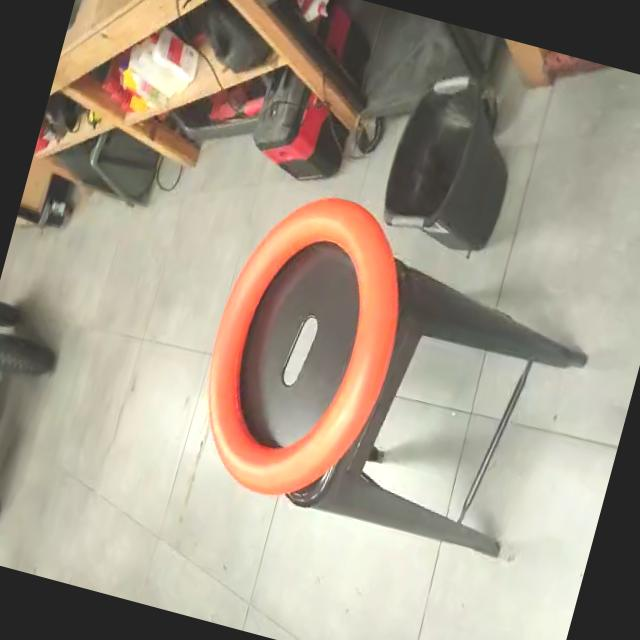note: (176, 174, 432, 522)
